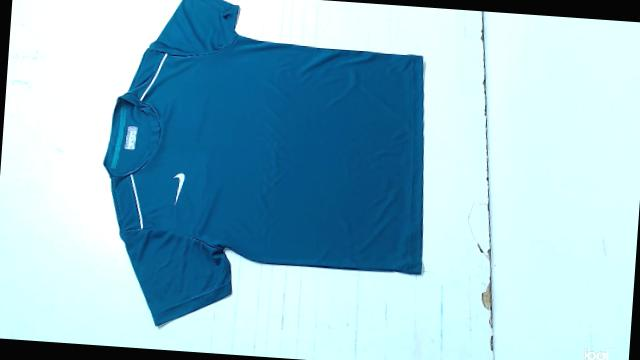new-garment: (103, 0, 423, 324)
